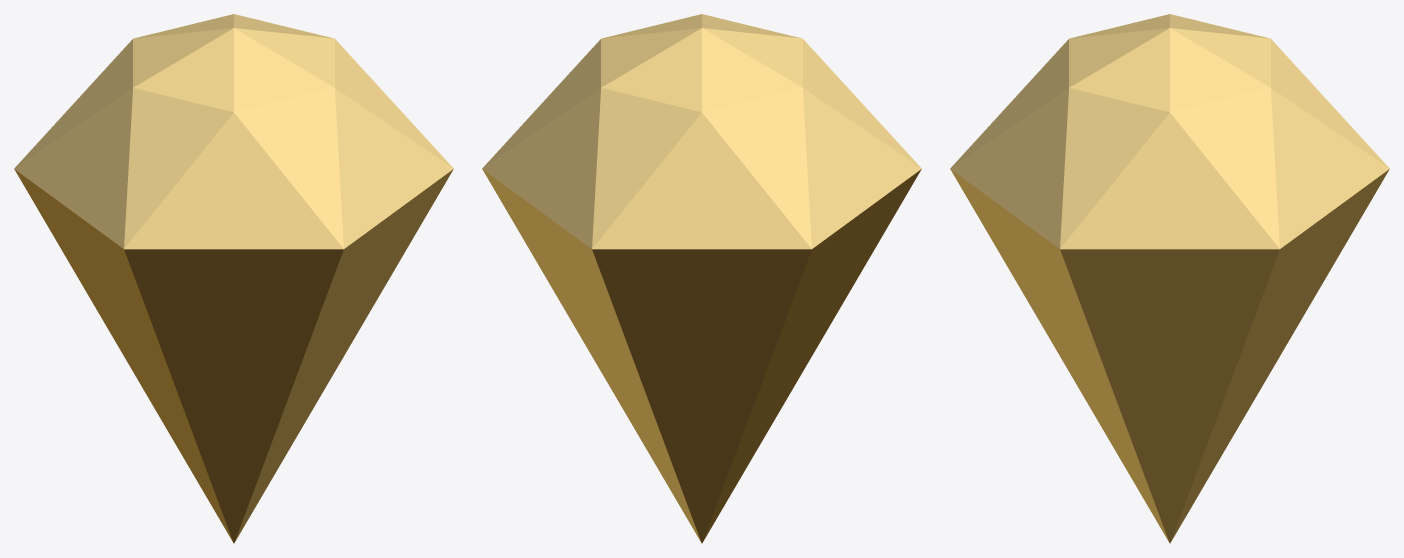
Rendered from KirinVFX_Mote.fbx.
The picture shows the model from 3 angles, left to right: view 1: azimuth 30°, elevation 25°; view 2: azimuth 150°, elevation 25°; view 3: azimuth 270°, elevation 25°; orthographic projection.
Parts seen in each view (by area): view 1: KirinVFX_Mote_Body; view 2: KirinVFX_Mote_Body; view 3: KirinVFX_Mote_Body.
Boxes of the visible parts, left/top/right/bottom form: KirinVFX_Mote_Body: left=14, top=14, right=453, bottom=543; KirinVFX_Mote_Body: left=482, top=14, right=921, bottom=543; KirinVFX_Mote_Body: left=950, top=14, right=1389, bottom=543.
Bounding box in the file's own units: 0.1472 × 0.22 × 0.17.
Materials: 1 (1 with a texture image).
